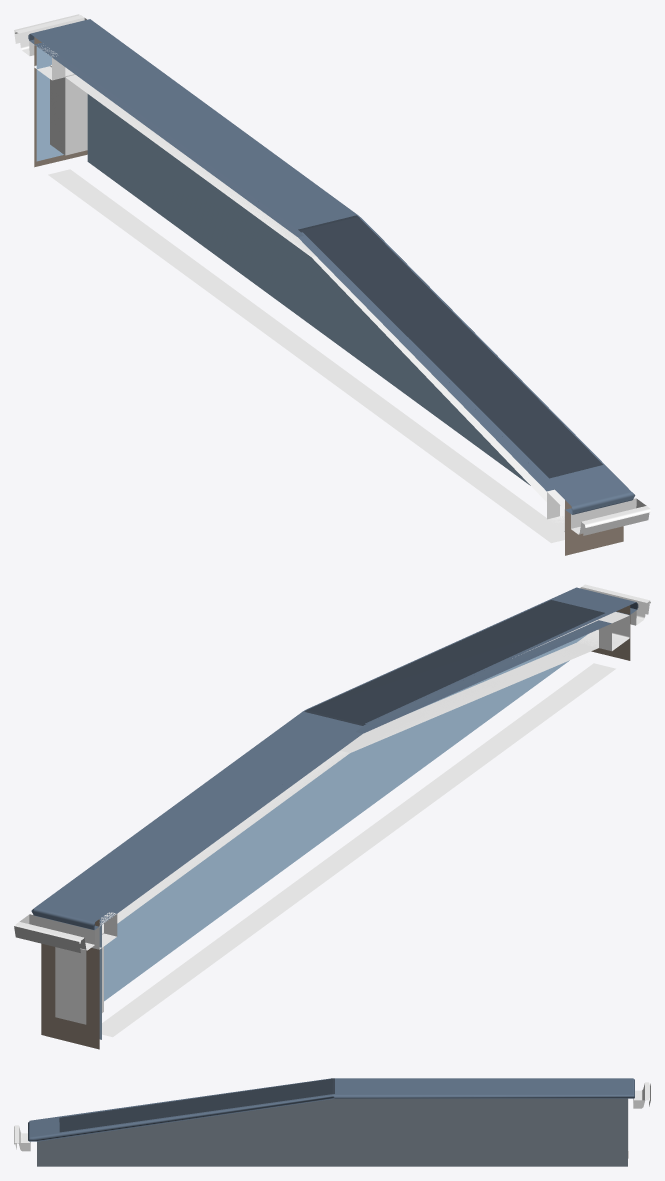
File: si_res_endcap_roof_sloped_r.dae
3 renders of one model, top to bottom at view 1: azimuth 30°, elevation 25°; view 2: azimuth 150°, elevation 25°; view 3: azimuth 270°, elevation 25°, orthographic. The views are drawn at different scales.
Visible parts, largest first — view 1: si_res_endcap_roof_sloped_r_a300, si_res_endcap_roof_sloped_r_a10, si_res_endcap_roof_sloped_r_a40; view 2: si_res_endcap_roof_sloped_r_a300, si_res_endcap_roof_sloped_r_a10, si_res_endcap_roof_sloped_r_a40; view 3: si_res_endcap_roof_sloped_r_a10, si_res_endcap_roof_sloped_r_a300.
Part boxes in pixels (bbox=[...]): si_res_endcap_roof_sloped_r_a300: bbox=[15, 15, 650, 543]; si_res_endcap_roof_sloped_r_a10: bbox=[34, 37, 623, 555]; si_res_endcap_roof_sloped_r_a40: bbox=[14, 14, 649, 535]; si_res_endcap_roof_sloped_r_a300: bbox=[15, 584, 650, 1039]; si_res_endcap_roof_sloped_r_a10: bbox=[41, 600, 630, 1049]; si_res_endcap_roof_sloped_r_a40: bbox=[14, 601, 649, 1024]; si_res_endcap_roof_sloped_r_a10: bbox=[37, 1078, 628, 1166]; si_res_endcap_roof_sloped_r_a300: bbox=[14, 1078, 649, 1151].
Bounding box in the file's own units: 0.4444 × 6.75 × 0.85.
